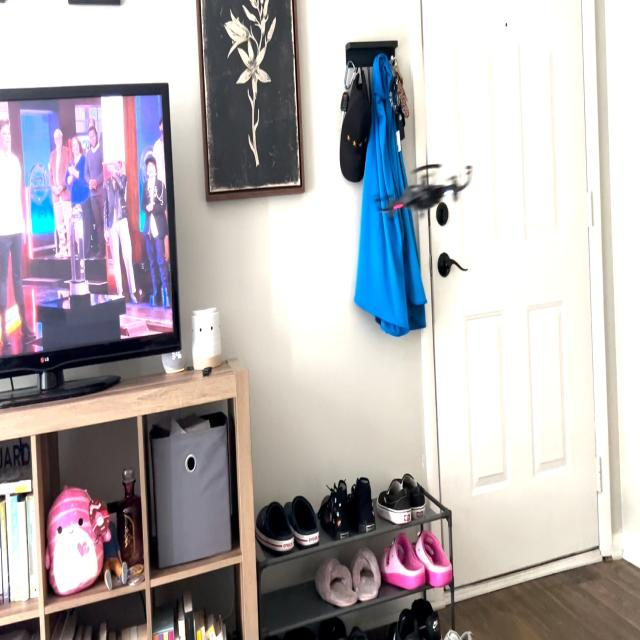drone: (365, 153, 481, 225)
